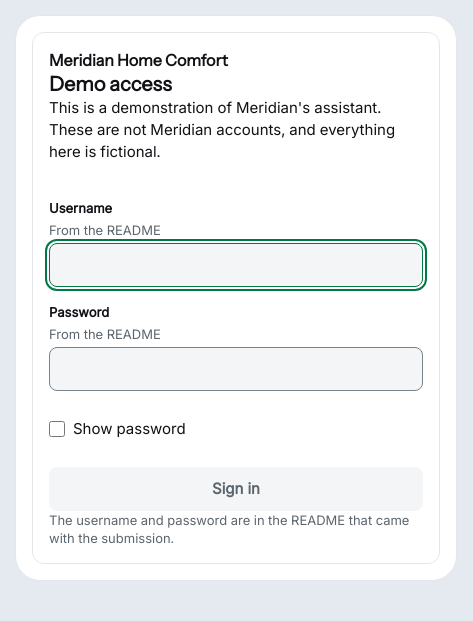
Test: Scr12 login › LOGIN_RATE_LIMITED gives the identical sentence and handling
Type "<demo-username>" into the field labelled "Username" at x=236, y=265, box [49,243,423,287]
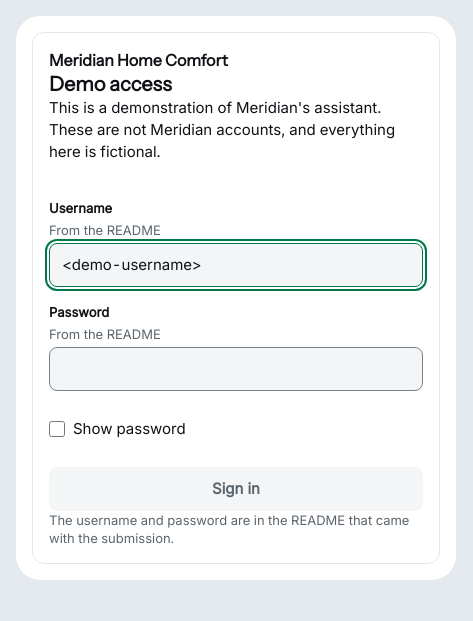
Type "<demo-password>" into the password field labelled "Password" at x=236, y=369, box [49,347,423,391]
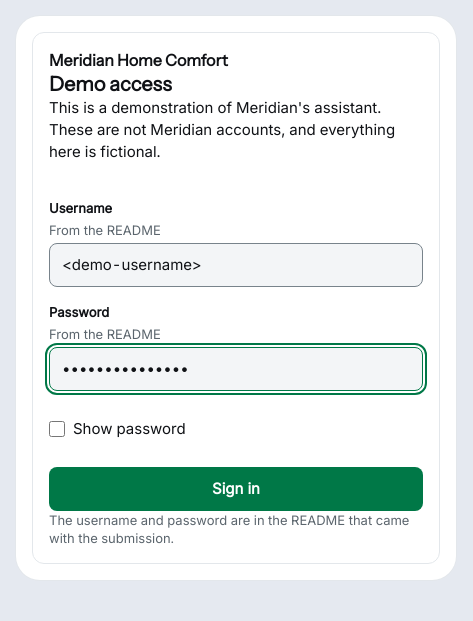
Click the button "Sign in" at x=236, y=489, box [49,467,423,511]
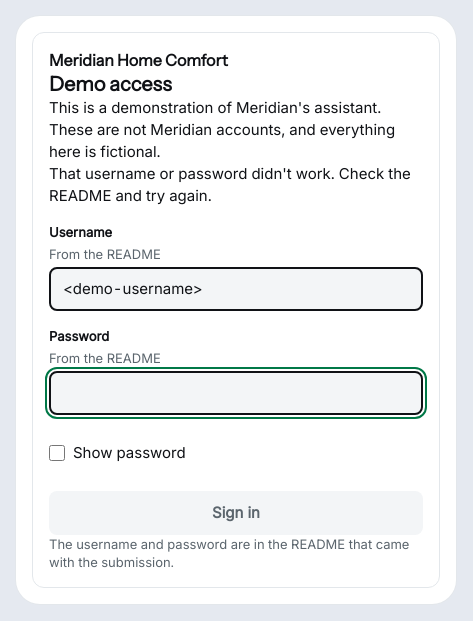
expect the text "That username or password didn't work. Check the README and try again." is shown: met, box [49,163,423,207]
expect the password field labelled "Password" is empty: met, box [49,371,423,415]
